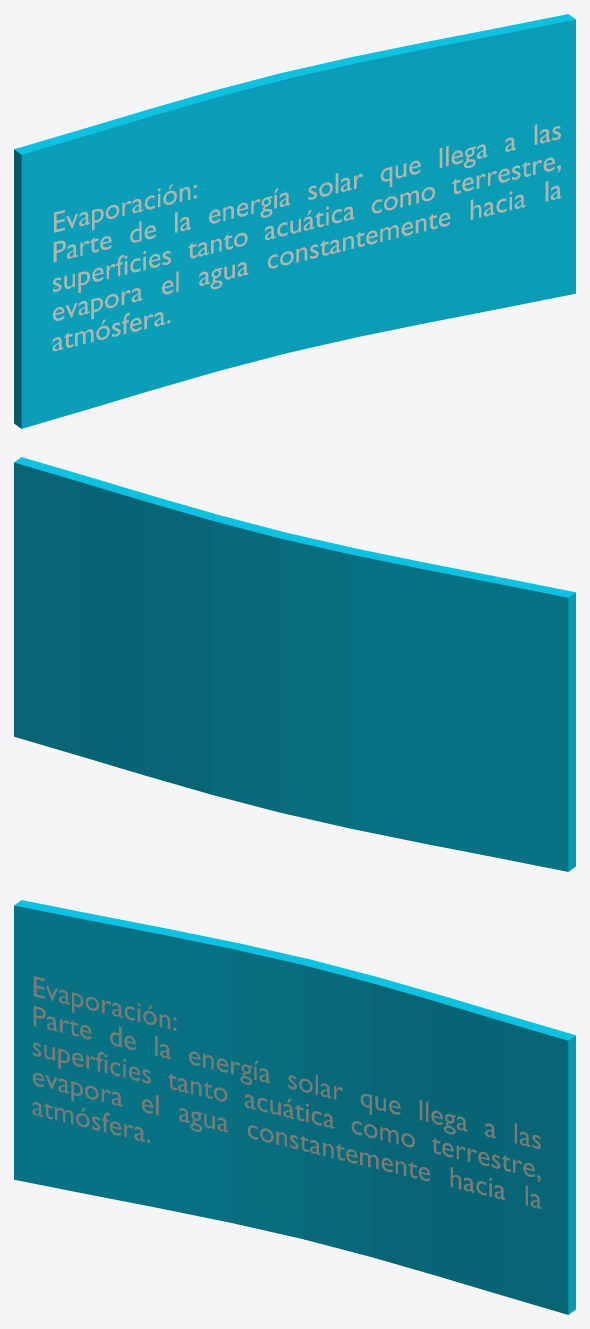
Rendered from evaporacion.glb.
3 views of the same model, one above another, from view 1: azimuth 30°, elevation 25°; view 2: azimuth 150°, elevation 25°; view 3: azimuth 330°, elevation 25° (orthographic).
Visible parts, largest first — view 1: Cube, Text; view 2: Cube; view 3: Cube, Text.
Boxes of the visible parts, x1,y1,x2,y2 form: Cube: (14,14,575,428); Text: (52,124,561,351); Cube: (14,457,575,871); Cube: (14,900,575,1314); Text: (32,976,541,1208).
Size of the model in its own units: 4.23 by 2 by 0.3325.
